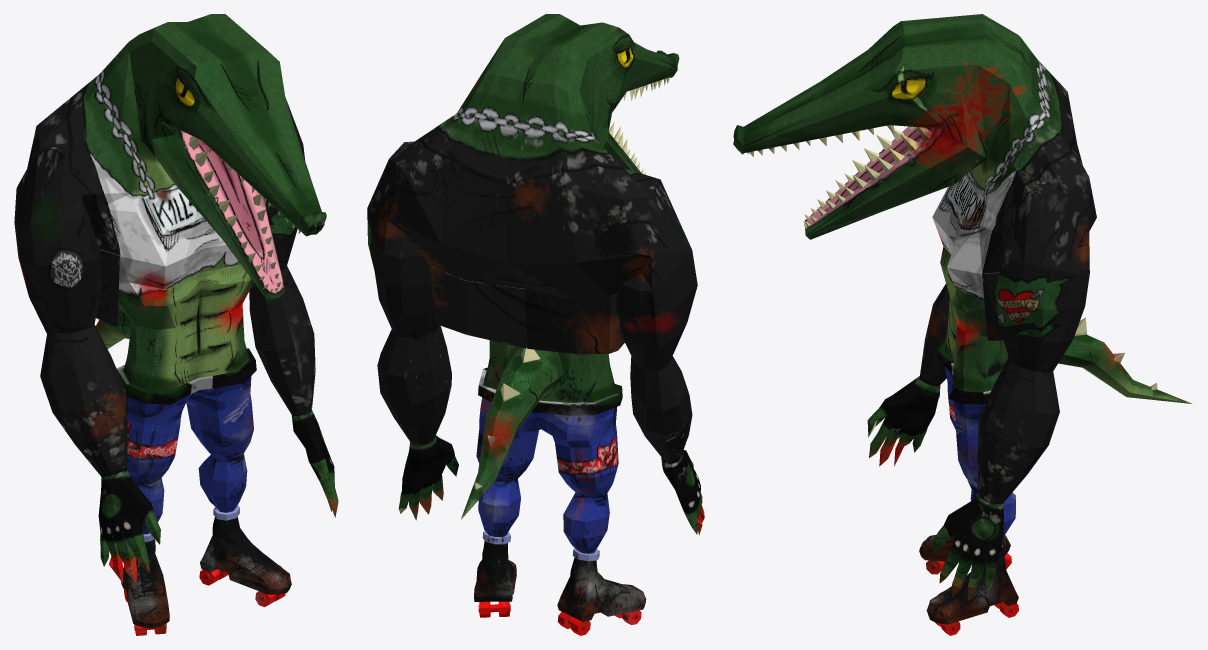
File: cocodrilaBonesSelect_000048.obj
The picture shows the model from 3 angles, left to right: view 1: azimuth 30°, elevation 25°; view 2: azimuth 150°, elevation 25°; view 3: azimuth 270°, elevation 25°; orthographic projection. The views are drawn at different scales.
Parts seen in each view (by area): view 1: Crocodile.002_Cylinder.002; view 2: Crocodile.002_Cylinder.002; view 3: Crocodile.002_Cylinder.002.
Boxes of the visible parts, x1,y1,x2,y2 form: Crocodile.002_Cylinder.002: [14, 14, 338, 635]; Crocodile.002_Cylinder.002: [367, 14, 704, 635]; Crocodile.002_Cylinder.002: [733, 14, 1192, 635].
Bounding box in the file's own units: 3.59 × 6.72 × 4.91.
